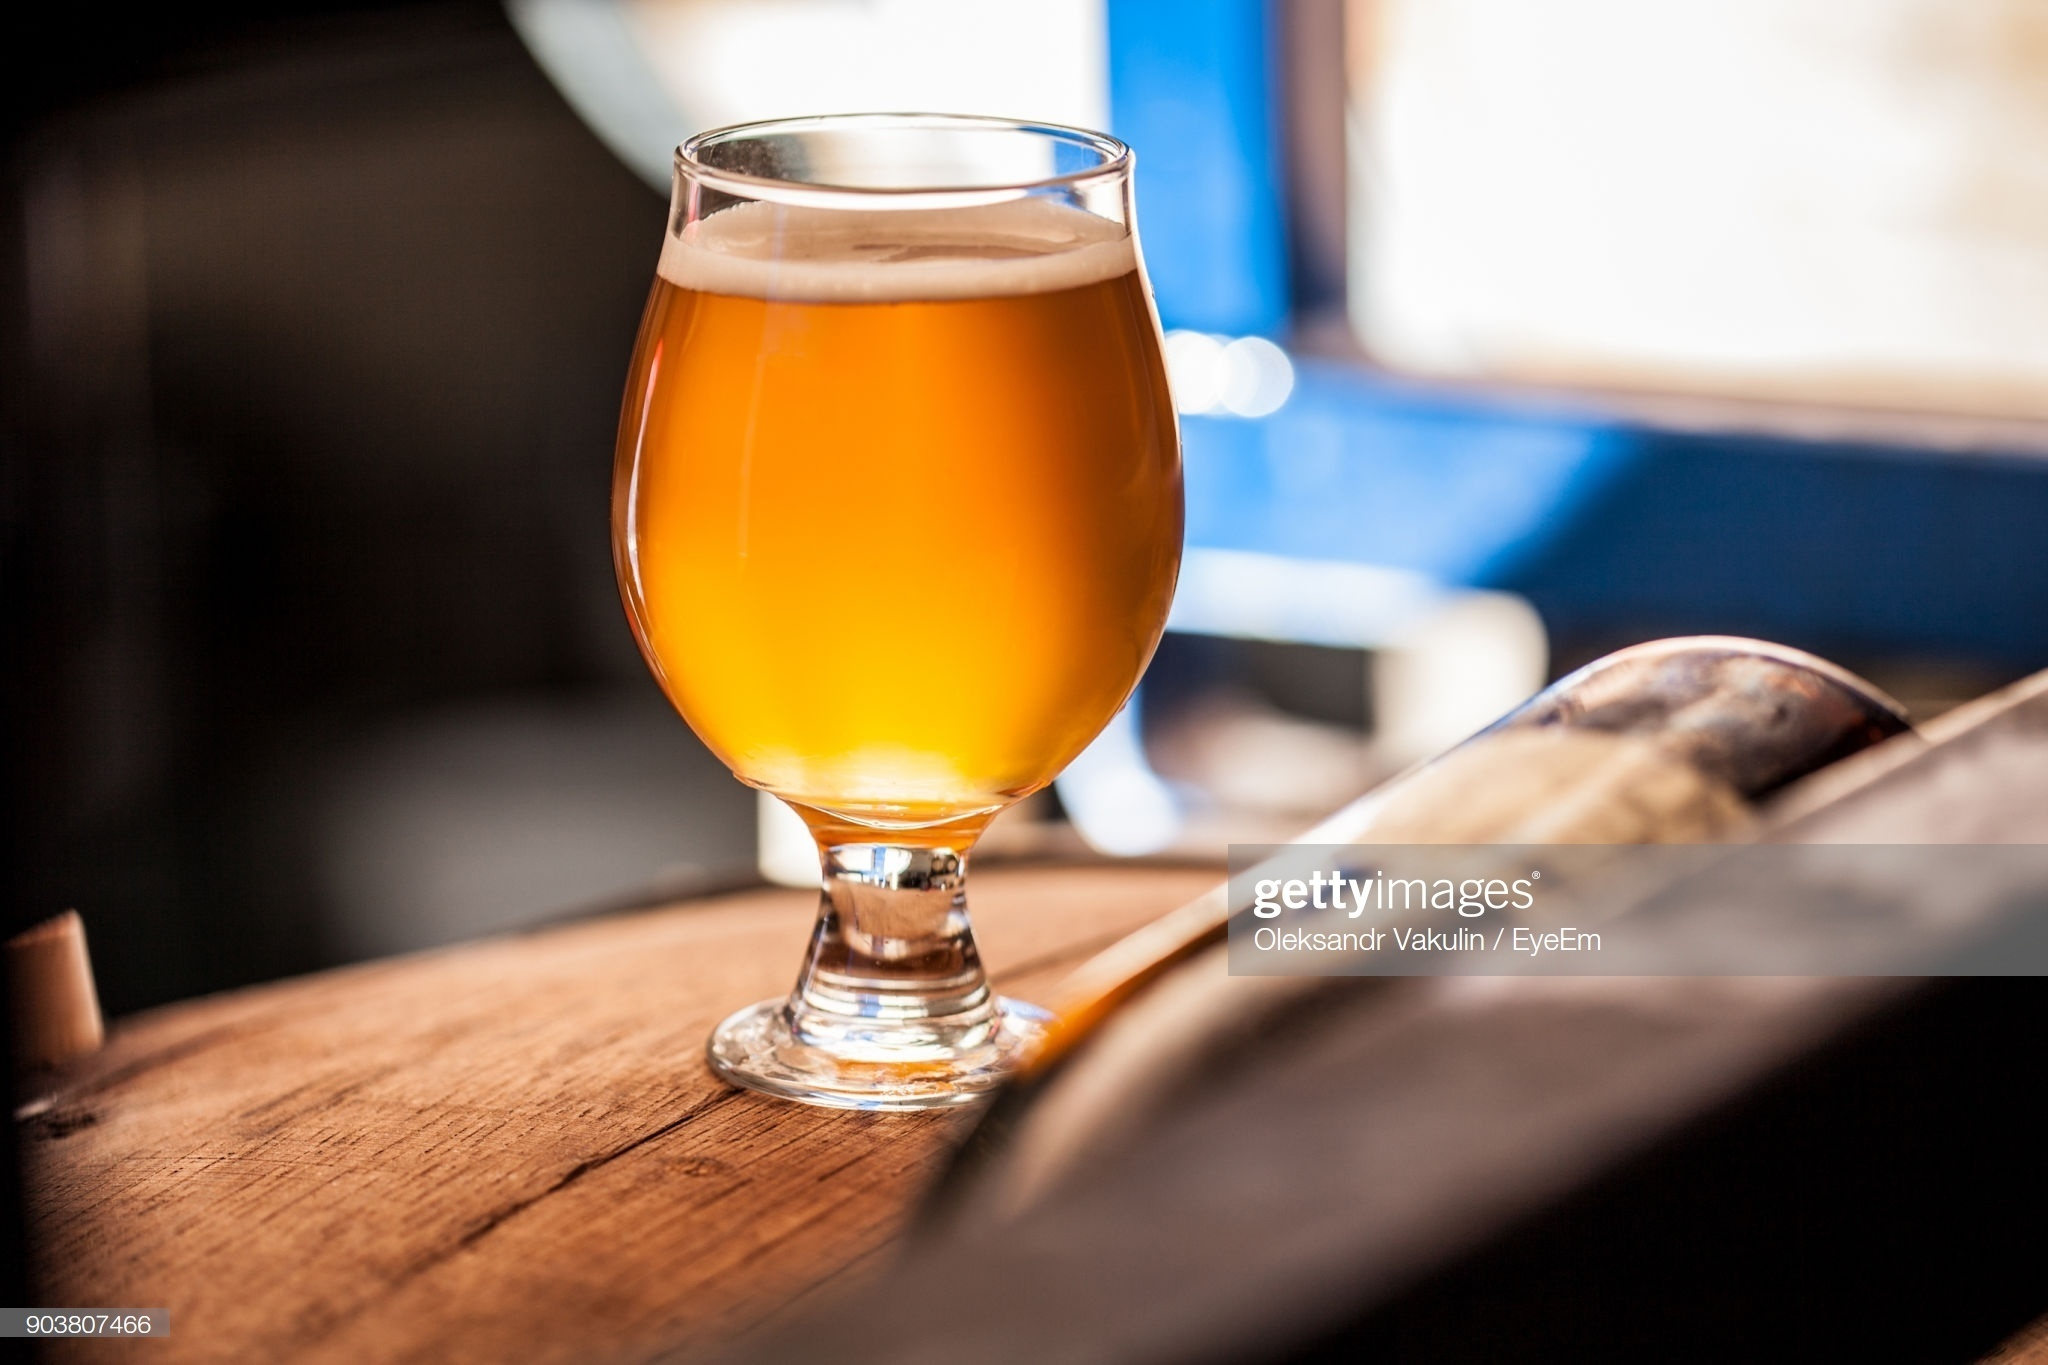whiskey: (614, 114, 1160, 1152)
